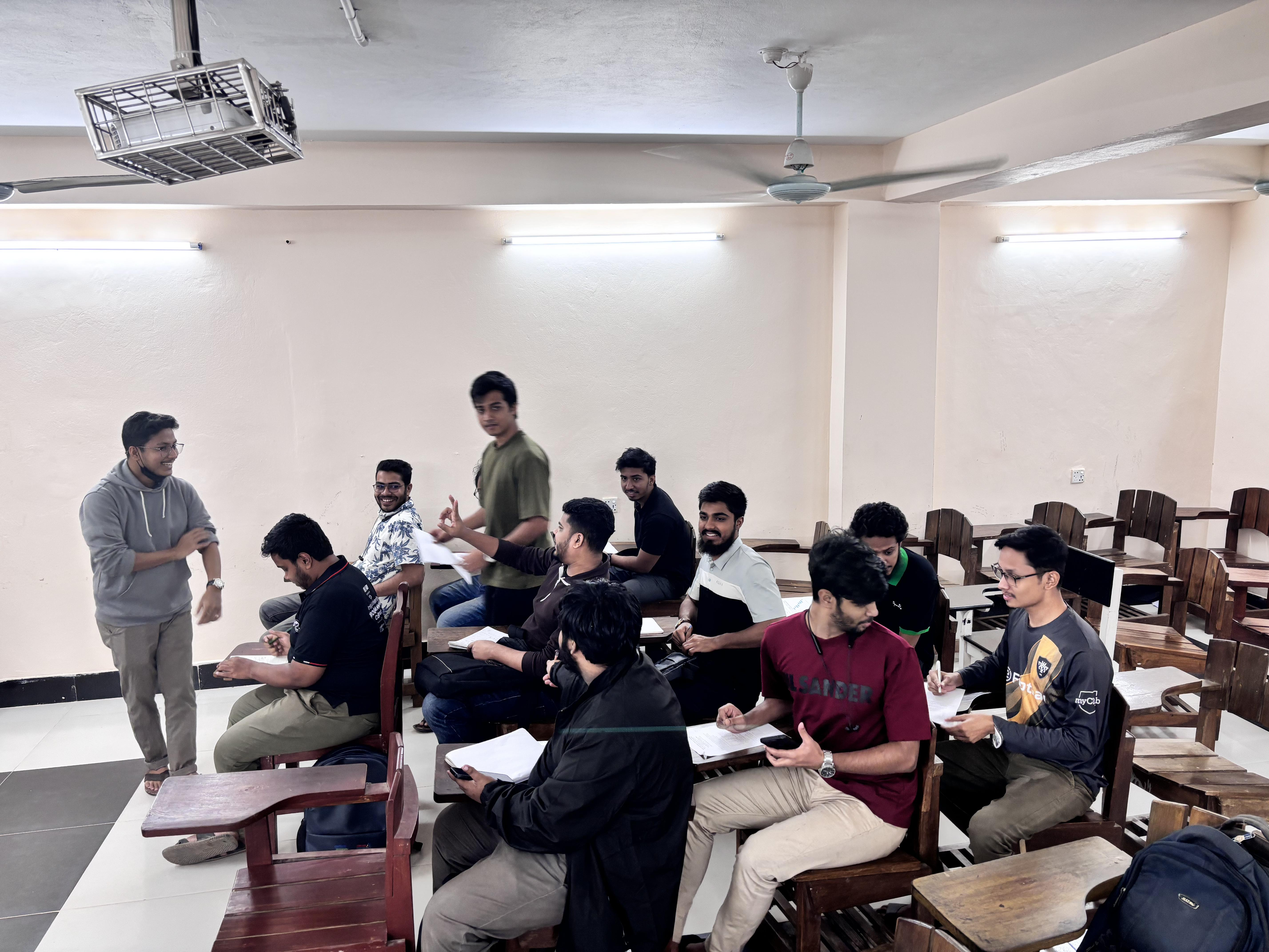copying: (824, 490, 961, 581)
invigilator: (68, 393, 239, 735), (443, 373, 563, 591)
no_cheating: (215, 510, 388, 789)
side_talking: (698, 537, 919, 881), (919, 521, 1121, 847), (438, 486, 631, 648), (328, 441, 457, 597)
suspicious_moving: (481, 597, 697, 952), (664, 477, 779, 676), (594, 441, 700, 588)
